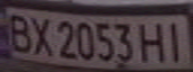0: (72, 18, 96, 61)
2: (51, 17, 78, 61)
3: (112, 19, 139, 63)
5: (93, 19, 118, 63)
B: (3, 10, 36, 53)
H: (136, 18, 172, 63)
I: (160, 17, 190, 63)
X: (24, 12, 57, 56)
